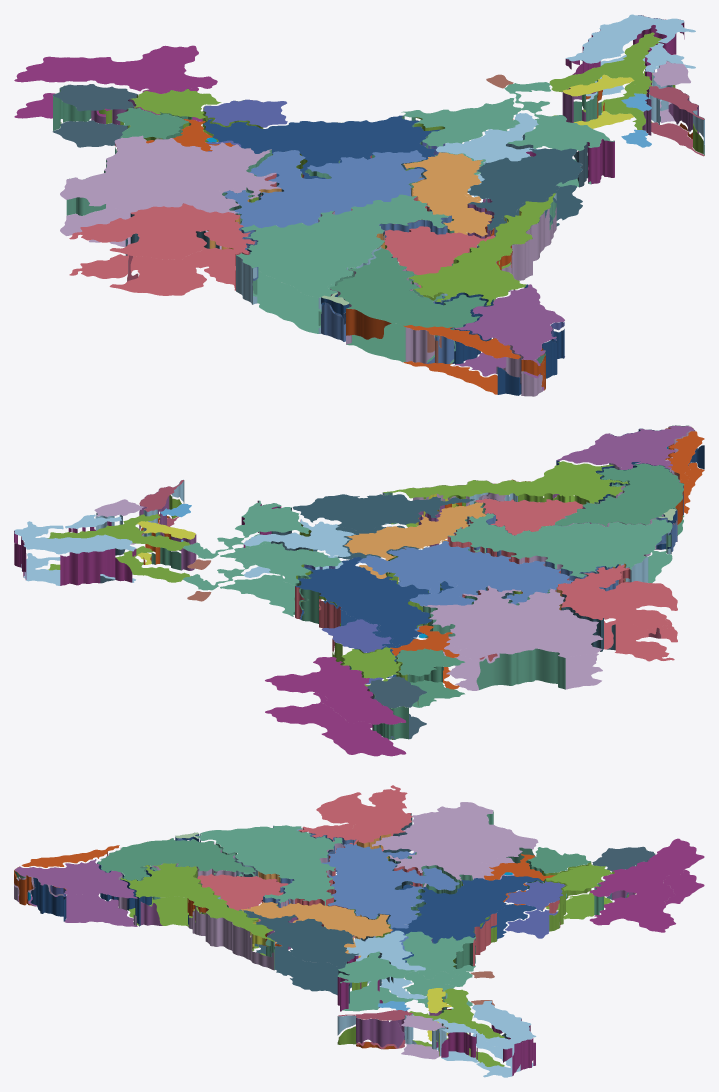
Rendered from main_single_map 1.fbx.
3 renders of one model, top to bottom at view 1: azimuth 30°, elevation 25°; view 2: azimuth 150°, elevation 25°; view 3: azimuth 270°, elevation 25°, orthographic. The views are drawn at different scales.
Visible parts, largest first — view 1: main_india_map; view 2: main_india_map; view 3: main_india_map.
Part boxes in pixels (<box>): main_india_map: <box>14,14,704,396</box>; main_india_map: <box>14,425,704,756</box>; main_india_map: <box>14,785,704,1077</box>.
Bounding box in the file's own units: 8.99 × 0.5905 × 10.
1 material, 1 textured.
